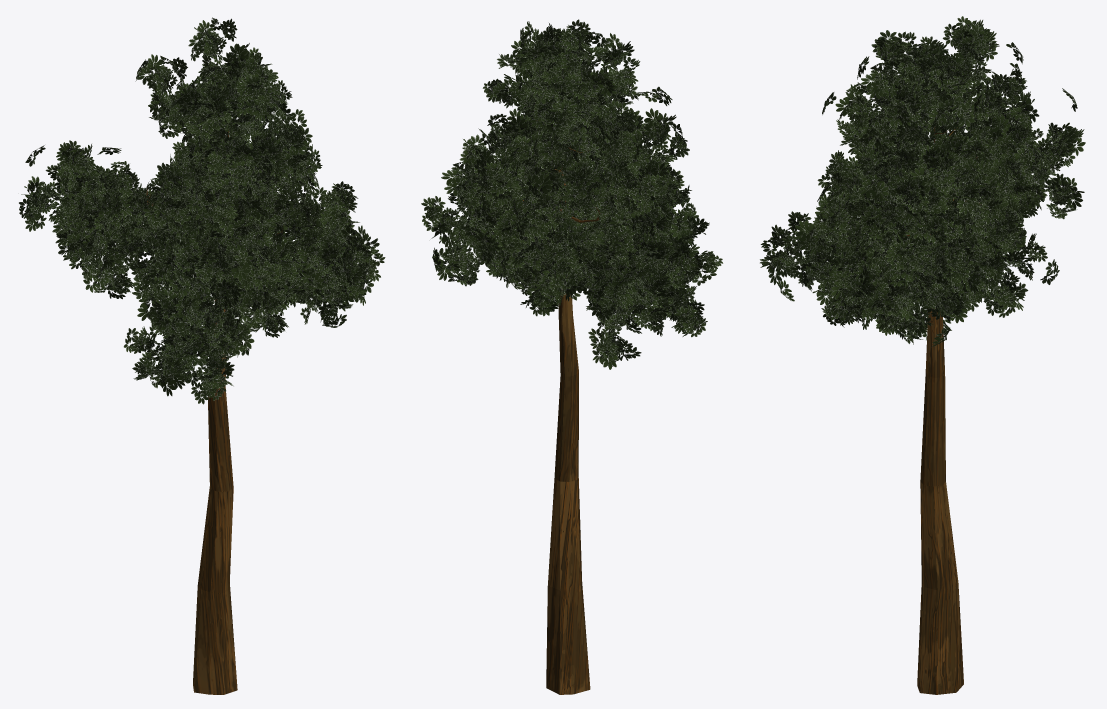
File: Ulin3.fbx
3 views of the same model, side by side, from view 1: azimuth 30°, elevation 25°; view 2: azimuth 150°, elevation 25°; view 3: azimuth 270°, elevation 25° (orthographic). The views are drawn at different scales.
Visible parts, largest first — view 1: Plane.003; view 2: Plane.003; view 3: Plane.003.
Part boxes in pixels (x1,y1,x2,y2): Plane.003: [19, 17, 385, 694]; Plane.003: [421, 19, 723, 694]; Plane.003: [760, 16, 1085, 694].
Size of the model in its own units: 1081 by 2336 by 1060.
